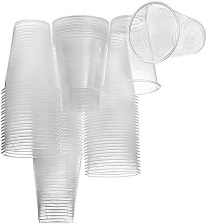glass: (77, 26, 143, 185), (0, 14, 69, 166), (26, 97, 91, 224), (46, 15, 122, 118), (122, 0, 218, 71), (106, 15, 162, 101)
